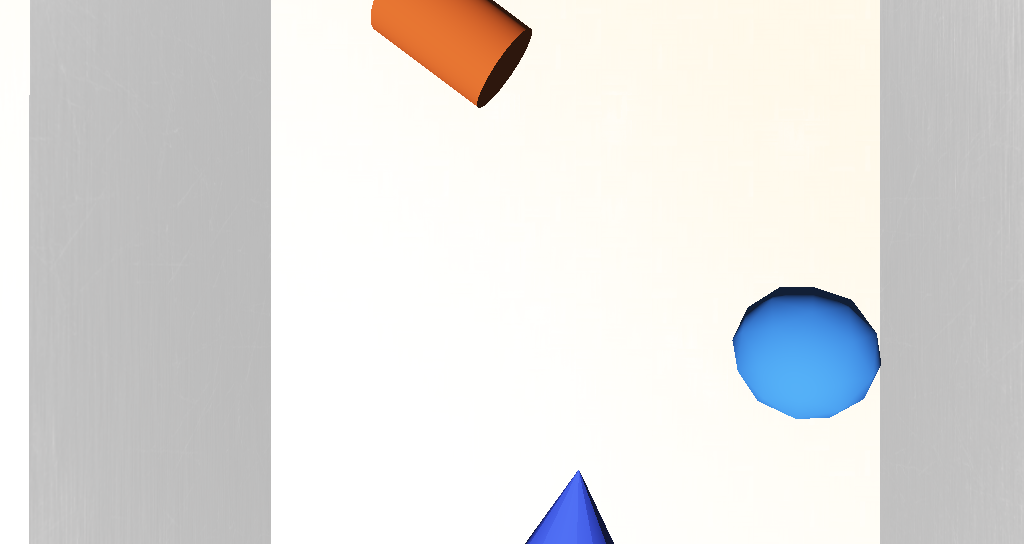cone: (404, 157, 485, 215)
cylinder: (465, 320, 532, 387)
sphere: (583, 274, 643, 317)
